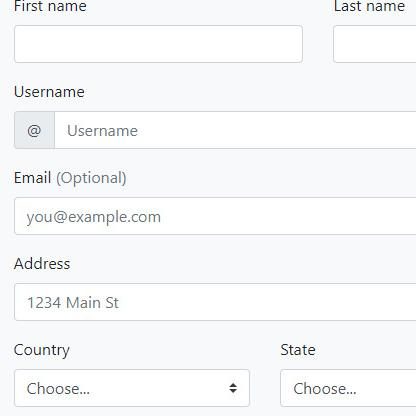field: (12, 22, 304, 65), (13, 366, 250, 409)
field_with_label: (8, 341, 256, 412)
